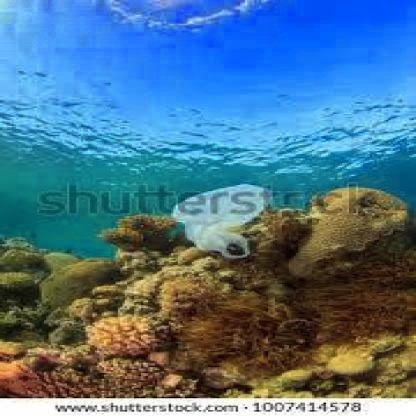pbag: (164, 179, 277, 262)
